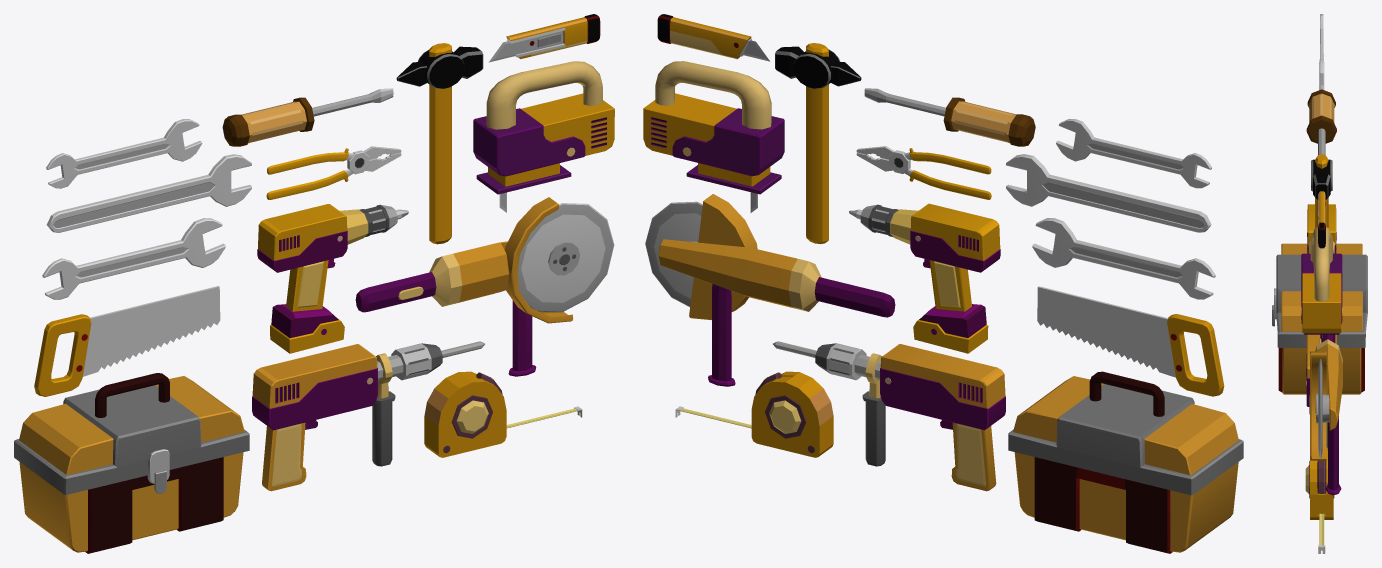
The model's file is construction_tools_2_pack.glb.
The picture shows the model from 3 angles, left to right: view 1: azimuth 30°, elevation 25°; view 2: azimuth 150°, elevation 25°; view 3: azimuth 270°, elevation 25°; orthographic projection. The views are drawn at different scales.
Visible parts, largest first — view 1: tool box top., circular saw, impact drill, fretsaw, tool box bottom, screwdriver, saw, hammer, construction tape, spanner2, spanner3, flat screwdriver (+3 smaller); view 2: tool box top., circular saw, impact drill, tool box bottom, fretsaw, screwdriver, saw, hammer, construction tape, spanner2, spanner3, flat screwdriver (+3 smaller); view 3: tool box top., circular saw, fretsaw, tool box bottom, construction tape, flat screwdriver, hammer, screwdriver, impact drill, stationery knife, spanner1.
Part boxes in pixels (<box>): tool box top.: <box>14,373,249,494</box>; circular saw: <box>355,197,614,376</box>; impact drill: <box>252,341,484,491</box>; fretsaw: <box>473,61,614,212</box>; tool box bottom: <box>19,452,243,553</box>; screwdriver: <box>257,204,408,353</box>; saw: <box>34,286,220,396</box>; hammer: <box>396,43,483,244</box>; construction tape: <box>424,371,582,457</box>; spanner2: <box>46,154,251,232</box>; spanner3: <box>42,218,225,299</box>; flat screwdriver: <box>222,88,393,146</box>; tool box top.: <box>1008,371,1243,495</box>; circular saw: <box>645,194,895,386</box>; impact drill: <box>773,341,1005,491</box>; tool box bottom: <box>1014,452,1238,553</box>; fretsaw: <box>643,61,784,212</box>; screwdriver: <box>849,203,1000,353</box>; saw: <box>1037,286,1224,396</box>; hammer: <box>775,43,861,244</box>; construction tape: <box>675,371,833,457</box>; spanner2: <box>1006,154,1211,232</box>; spanner3: <box>1032,218,1215,299</box>; flat screwdriver: <box>864,88,1035,146</box>; tool box top.: <box>1272,243,1367,347</box>; circular saw: <box>1310,334,1342,495</box>; fretsaw: <box>1301,227,1342,337</box>; tool box bottom: <box>1278,348,1364,394</box>; construction tape: <box>1305,447,1334,553</box>; flat screwdriver: <box>1306,89,1336,154</box>; hammer: <box>1311,154,1332,227</box>; screwdriver: <box>1307,204,1336,253</box>; impact drill: <box>1306,334,1337,447</box>; stationery knife: <box>1318,191,1325,248</box>; spanner1: <box>1319,14,1323,89</box>.
Size of the model in its own units: 27.34 by 18.33 by 4.67.
